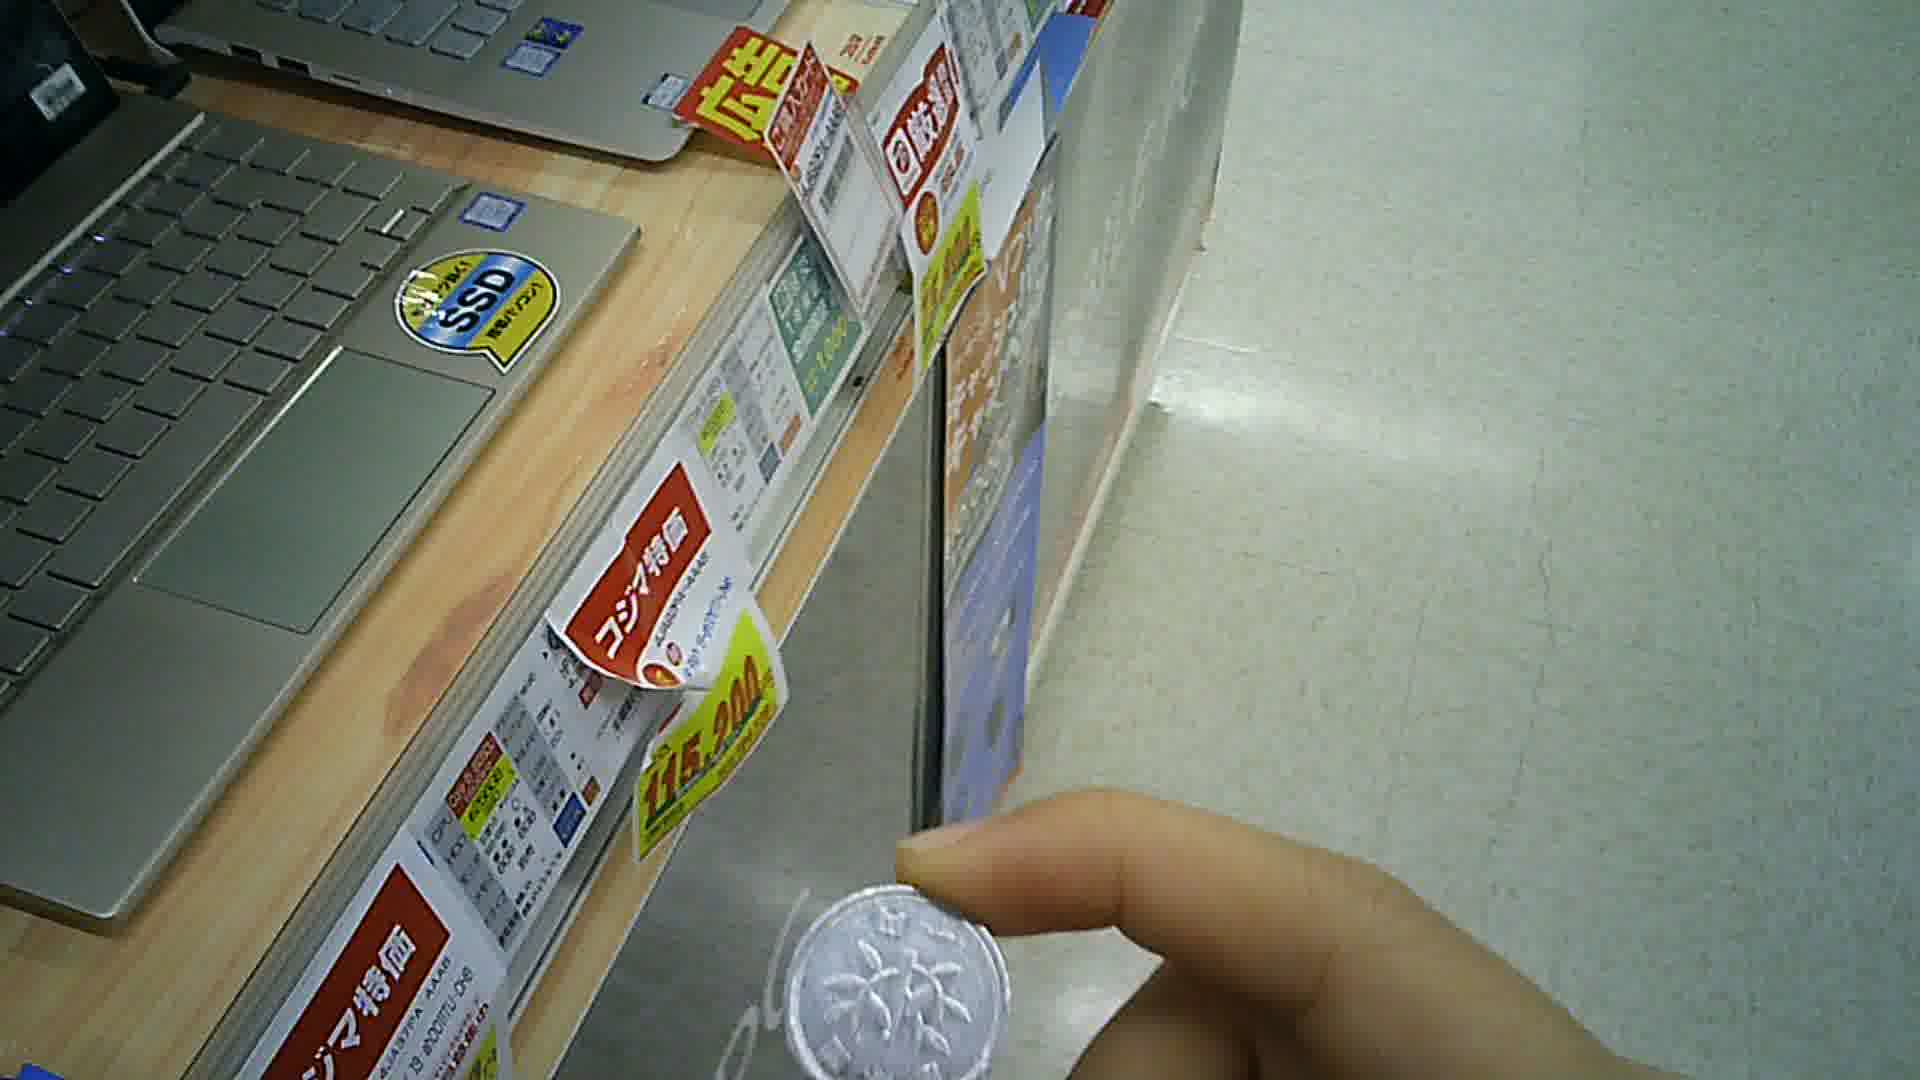1 Yen: (786, 882, 1006, 1079)
